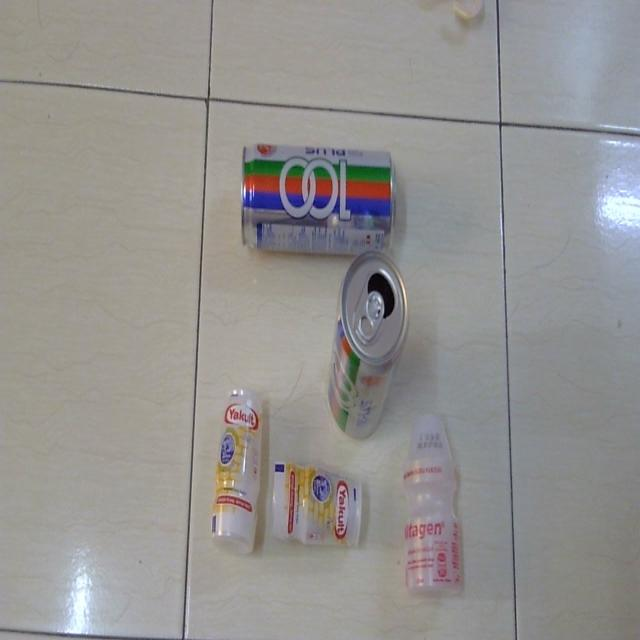metal_laydown_0rotation: (234, 130, 403, 260)
metal_standrotation: (324, 246, 410, 440)
plastic_laydown_0rotation: (268, 452, 368, 552)
plastic_laydown_90rotation: (400, 405, 466, 602), (210, 380, 268, 557)
